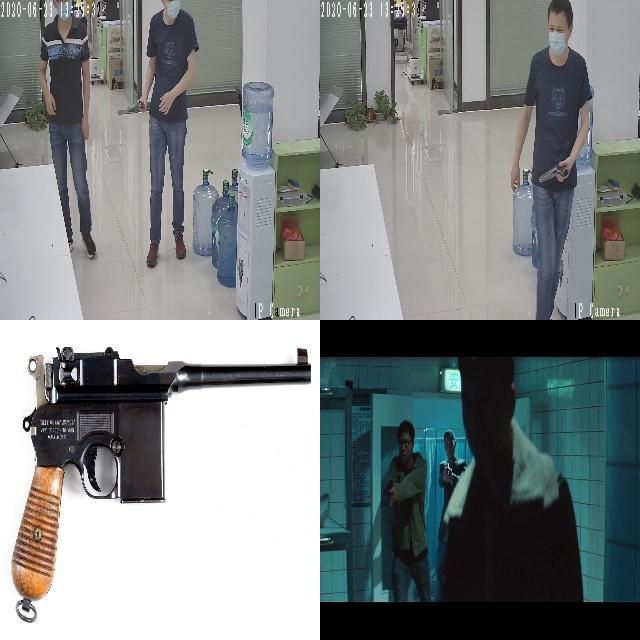gun-knife-thesis - v11 Yolov5 augmented: (7, 327, 311, 621), (535, 154, 569, 183), (125, 95, 150, 113), (381, 477, 395, 503), (442, 459, 450, 481)
